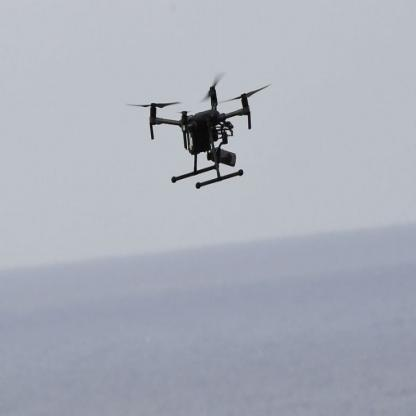drone: (132, 70, 271, 176)
